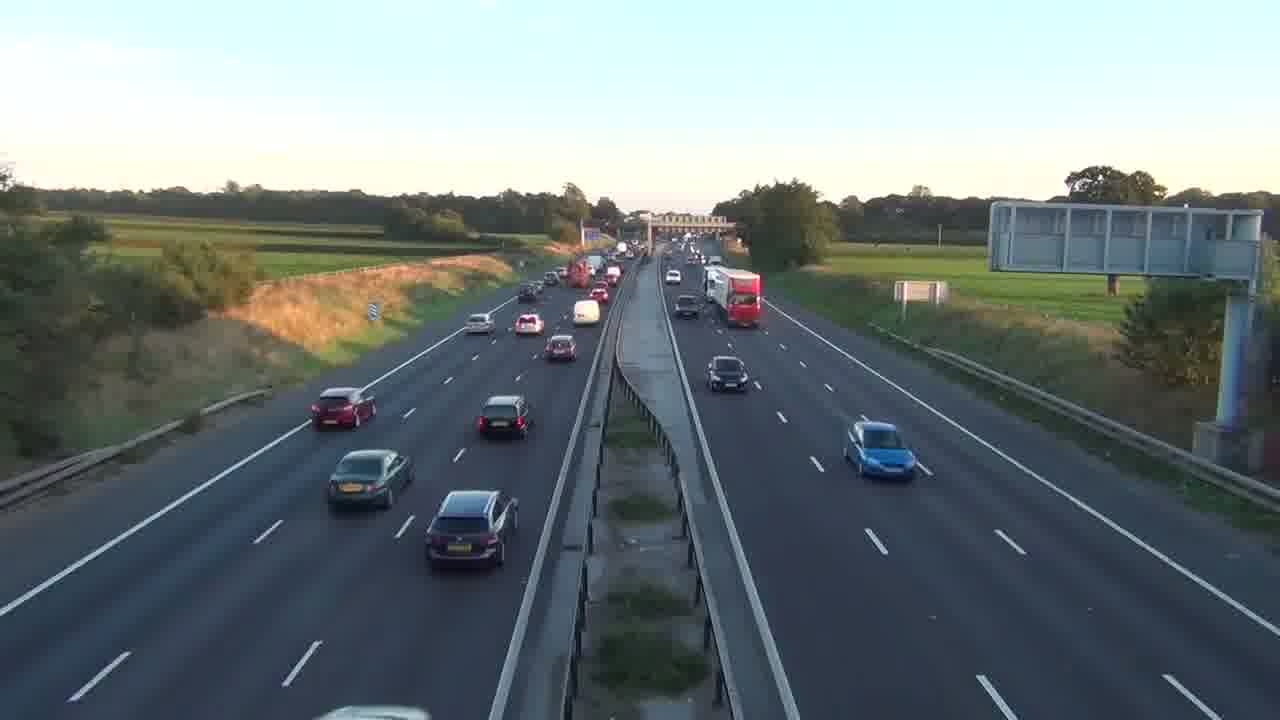bus: (724, 269, 763, 327)
car: (423, 489, 520, 571), (325, 447, 414, 510), (843, 417, 916, 481), (309, 386, 377, 431), (474, 394, 531, 441), (706, 355, 750, 392), (542, 333, 577, 362)
